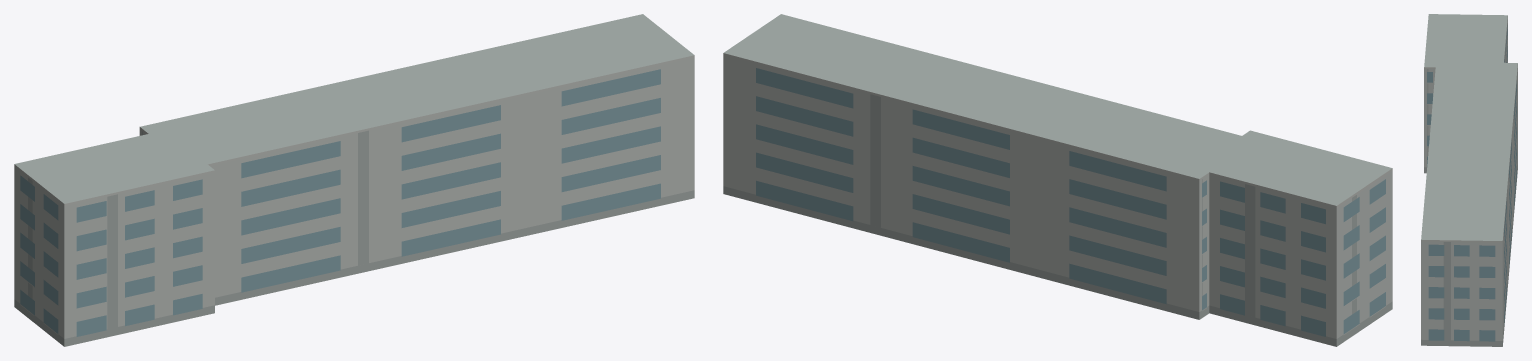
File: residential-ca1bb8dc-4556-46a2-8478-332b65fa020c.glb
3 renders of one model, left to right at view 1: azimuth 30°, elevation 25°; view 2: azimuth 150°, elevation 25°; view 3: azimuth 270°, elevation 25°, orthographic. The views are drawn at different scales.
Parts seen in each view (by area): view 1: residential-ca1bb8dc-4556-46a2-8478-332b65fa020c.tmp; view 2: residential-ca1bb8dc-4556-46a2-8478-332b65fa020c.tmp; view 3: residential-ca1bb8dc-4556-46a2-8478-332b65fa020c.tmp.
Part boxes in pixels (x1=…): residential-ca1bb8dc-4556-46a2-8478-332b65fa020c.tmp: x1=14, y1=14, x2=694, y2=346; residential-ca1bb8dc-4556-46a2-8478-332b65fa020c.tmp: x1=723, y1=14, x2=1392, y2=346; residential-ca1bb8dc-4556-46a2-8478-332b65fa020c.tmp: x1=1421, y1=14, x2=1517, y2=346.
Bounding box in the file's own units: 70.19 × 15.25 × 12.66.
